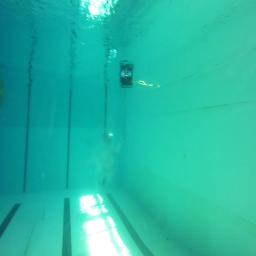front: (120, 72, 133, 88)
